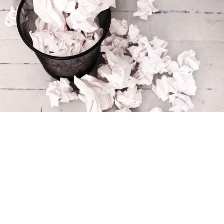book: (22, 0, 116, 58), (98, 32, 169, 89), (69, 69, 116, 113), (41, 73, 78, 109), (167, 62, 199, 97), (149, 73, 181, 102), (111, 83, 144, 109), (162, 88, 194, 114), (174, 45, 202, 72), (130, 0, 162, 22), (2, 4, 30, 29), (107, 16, 129, 37), (124, 23, 144, 44)
